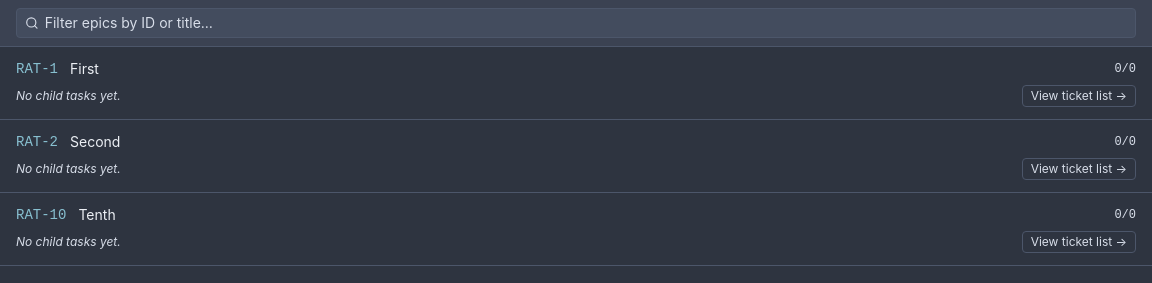
Test: EpicsTab — filter bar › filters by displayId substring (case-insensitive, substring — RAT-1 matches RAT-1 and RAT-10)
Type "rat-1" into the field labelled "Filter epics by ID or title…" at point(587, 23), box left=39, top=9, right=1135, bottom=37
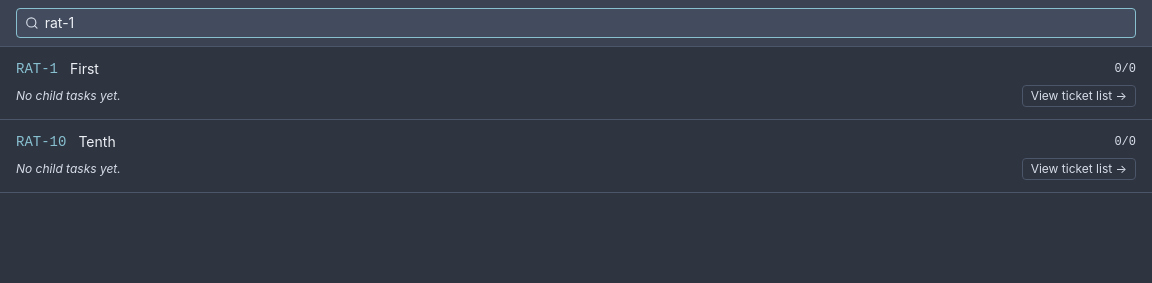
Check: the text "First" is shown, box left=70, top=60, right=99, bottom=77
Check: the button "Second" is gone
